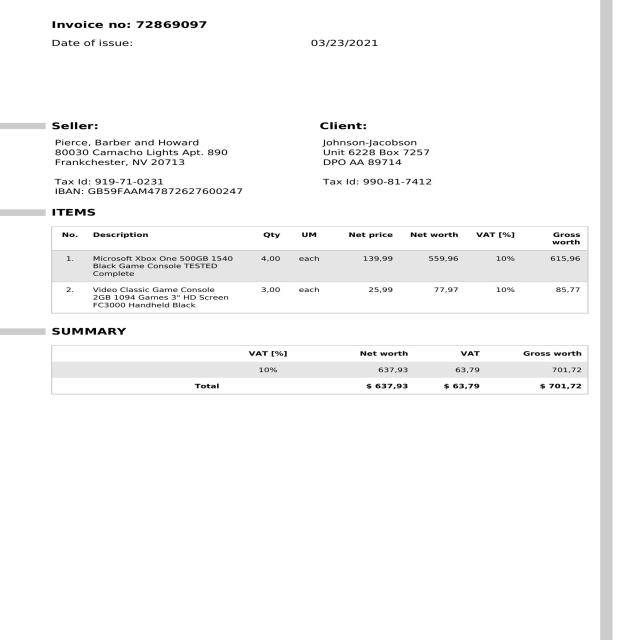customer_address: (320, 146, 456, 168)
customer_name: (320, 136, 426, 148)
invoice_date: (306, 37, 381, 49)
invoice_number: (136, 16, 226, 34)
invoice_subtotal: (352, 380, 418, 392)
invoice_total: (534, 380, 586, 392)
item_description: (85, 254, 236, 312)
item_quantity: (254, 252, 288, 306)
item_total_price: (421, 252, 468, 305)
item_unit_price: (360, 252, 398, 306)
supplier_address: (54, 149, 240, 169)
supplier_name: (52, 137, 204, 147)
tax_amount: (435, 379, 486, 392)
tax_rate: (252, 363, 283, 375)
